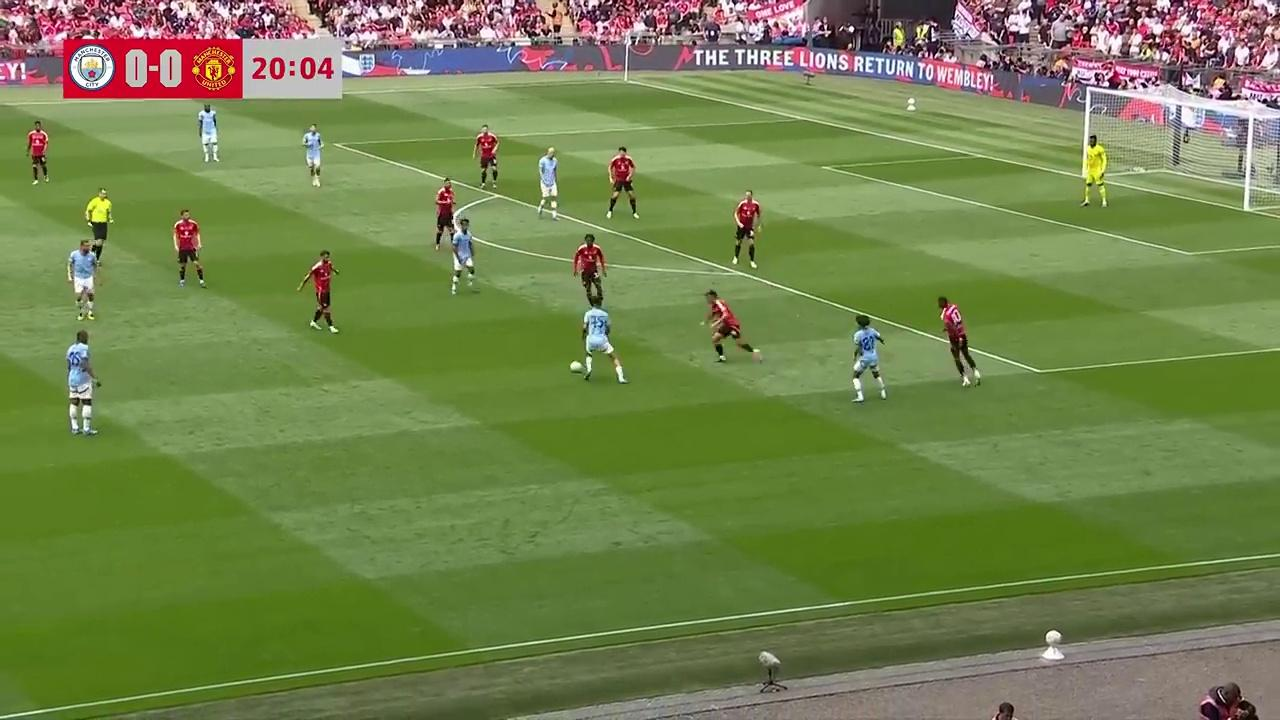ball: (569, 357, 583, 374)
player: (570, 298, 627, 383), (700, 289, 762, 363), (65, 330, 101, 436), (297, 249, 339, 333), (939, 303, 981, 387), (852, 314, 887, 401), (572, 233, 607, 308), (172, 208, 205, 287), (67, 240, 99, 320), (606, 146, 638, 219), (732, 188, 761, 268), (450, 217, 478, 295), (937, 296, 972, 358), (1081, 135, 1108, 207), (536, 147, 559, 220), (434, 179, 456, 251), (25, 121, 50, 184), (474, 129, 498, 190), (301, 124, 323, 187), (197, 104, 219, 163)
referee: (84, 187, 114, 263)
